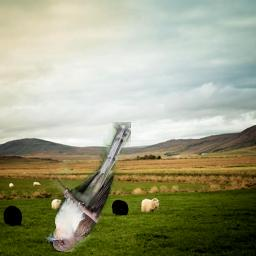Cuckoo: (45, 122, 131, 252)
